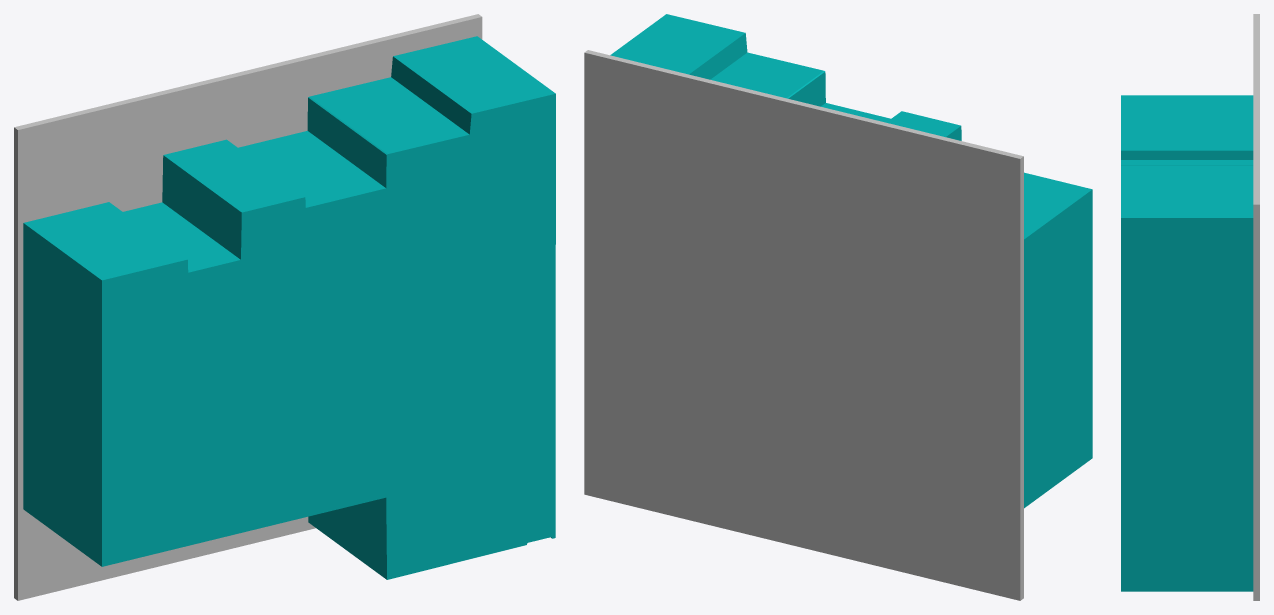
3 views of the same model, side by side, from view 1: azimuth 30°, elevation 25°; view 2: azimuth 150°, elevation 25°; view 3: azimuth 270°, elevation 25° (orthographic). The views are drawn at different scales.
Visible parts, largest first — view 1: world; view 2: world; view 3: world.
Part boxes in pixels (x1,y1,x2,y2): world: (14, 14, 555, 600); world: (584, 14, 1092, 600); world: (1121, 14, 1259, 600).
Size of the model in its own units: 10.23 by 9.91 by 3.15.
